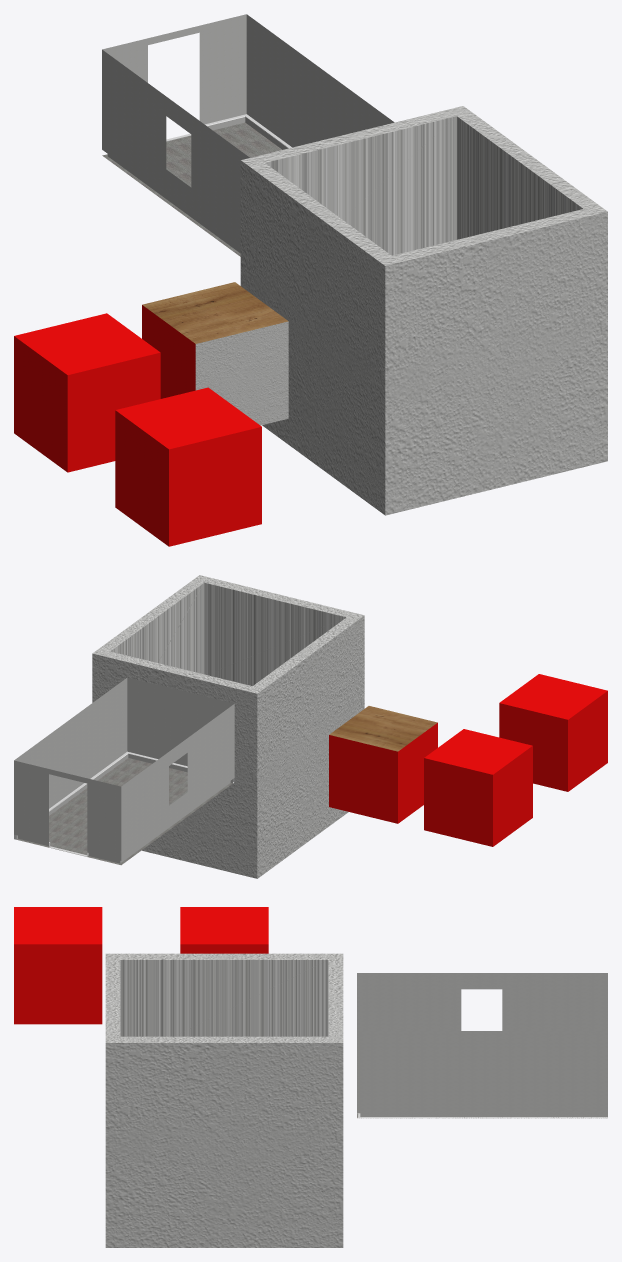
Rendered from Testszene.gltf.
The picture shows the model from 3 angles, top to bottom: view 1: azimuth 30°, elevation 25°; view 2: azimuth 150°, elevation 25°; view 3: azimuth 270°, elevation 25°; orthographic projection. The views are drawn at different scales.
Parts seen in each view (by area): view 1: Würfel.4, Container Innen-Wand neu, Würfel.3, Würfel, Würfel.1-WallDiffuse, Würfel.1-TableDiffuse, Würfel.1-Mat, Container Innen-Floor neu; view 2: Würfel.4, Container Innen-Wand neu, Würfel, Würfel.3, Würfel.1-Mat, Container Innen-Floor neu, Würfel.1-TableDiffuse, Container Innen; view 3: Würfel.4, Container Innen-Wand neu, Würfel.3, Würfel, Container Innen.
Part boxes in pixels (x1,y1,x2,y2): Würfel.4: [240, 106, 607, 515]; Container Innen-Wand neu: [102, 14, 394, 253]; Würfel.3: [115, 387, 261, 546]; Würfel: [14, 313, 160, 472]; Würfel.1-WallDiffuse: [195, 321, 288, 425]; Würfel.1-TableDiffuse: [142, 282, 288, 343]; Würfel.1-Mat: [142, 305, 195, 398]; Container Innen-Floor neu: [102, 122, 282, 256]; Würfel.4: [92, 575, 364, 878]; Container Innen-Wand neu: [14, 677, 234, 863]; Würfel: [424, 729, 532, 846]; Würfel.3: [499, 674, 607, 791]; Würfel.1-Mat: [329, 722, 437, 823]; Container Innen-Floor neu: [17, 758, 232, 865]; Würfel.1-TableDiffuse: [329, 706, 437, 751]; Container Innen: [14, 751, 234, 856]; Würfel.4: [105, 953, 343, 1247]; Container Innen-Wand neu: [357, 973, 607, 1116]; Würfel.3: [14, 907, 102, 1024]; Würfel: [180, 907, 268, 953]; Container Innen: [357, 1113, 607, 1118].
Size of the model in its own units: 10.64 by 5.13 by 13.46.
Materials: 6 (5 with a texture image).
